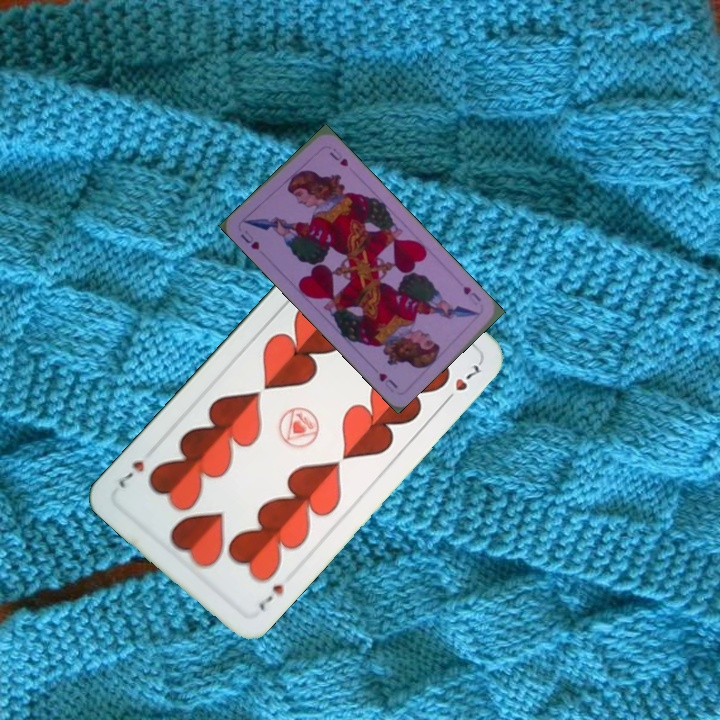H7: (254, 580, 286, 614)
HU: (236, 226, 262, 252), (459, 282, 484, 308)
